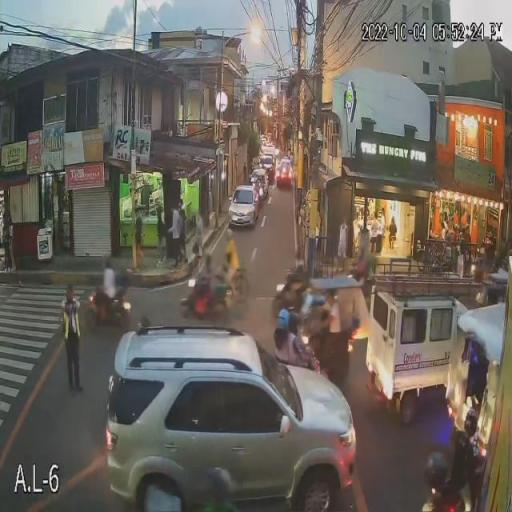helmet: (458, 407, 484, 439), (274, 304, 292, 336), (289, 313, 307, 334)
motorcycle: (427, 455, 485, 512), (180, 277, 230, 322), (84, 287, 134, 324)
rider: (446, 404, 484, 511), (98, 258, 120, 319), (200, 252, 216, 316)
